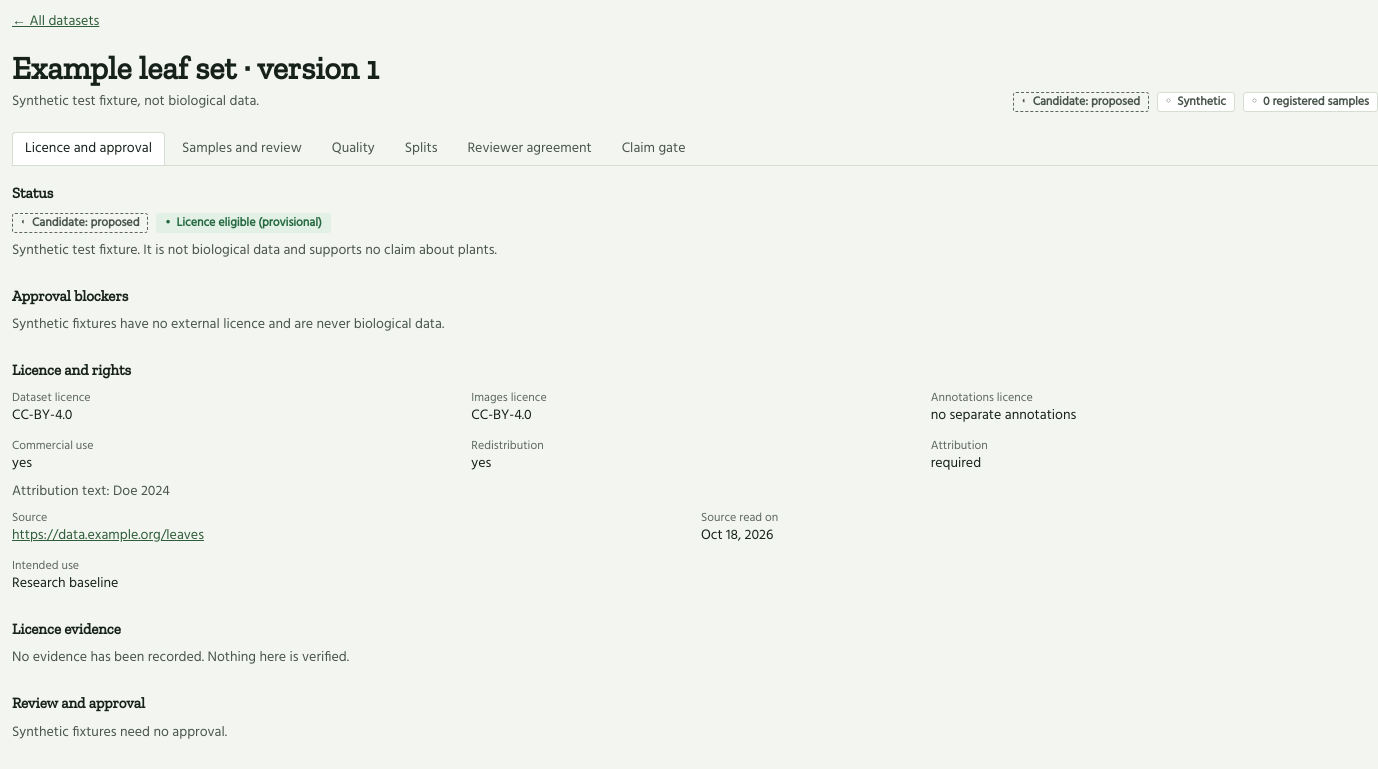
Test: dataset detail: samples and label review › says that reviewers are unverified and that no label is expert validation
Click the tab "Samples and review": {"x": 242, "y": 148} [169,132,315,165]
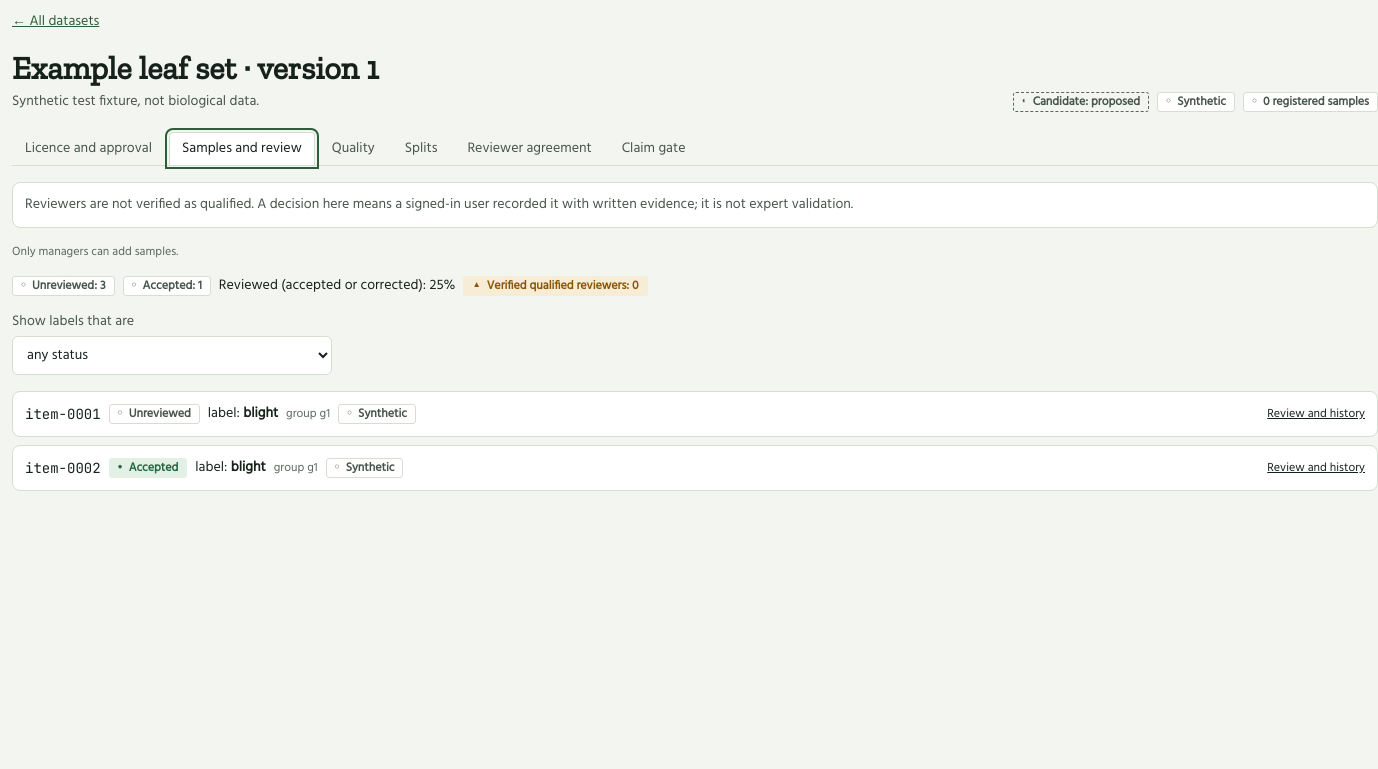
Result: the text "Reviewers are not verified as qualified" is shown at [25,193,853,216]
Result: the text "Verified qualified reviewers: 0" is shown at [487,276,639,296]
Result: the text "Accepted" is shown at [129,458,178,478]
